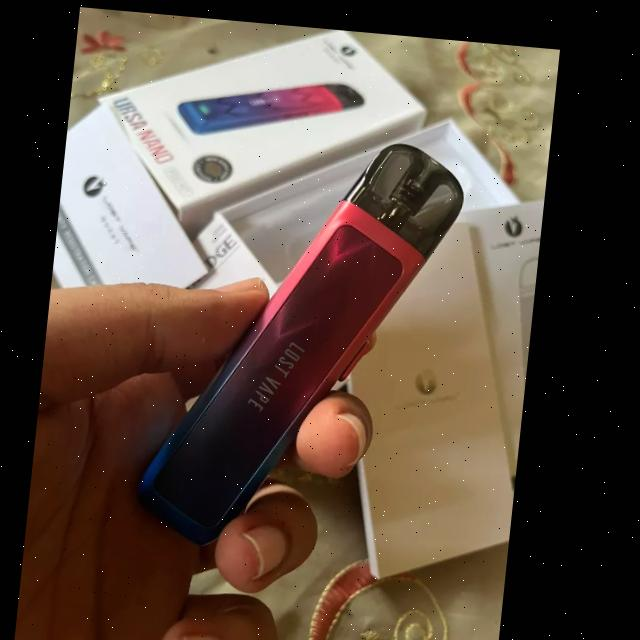vape: (137, 116, 472, 556), (180, 65, 368, 144)
